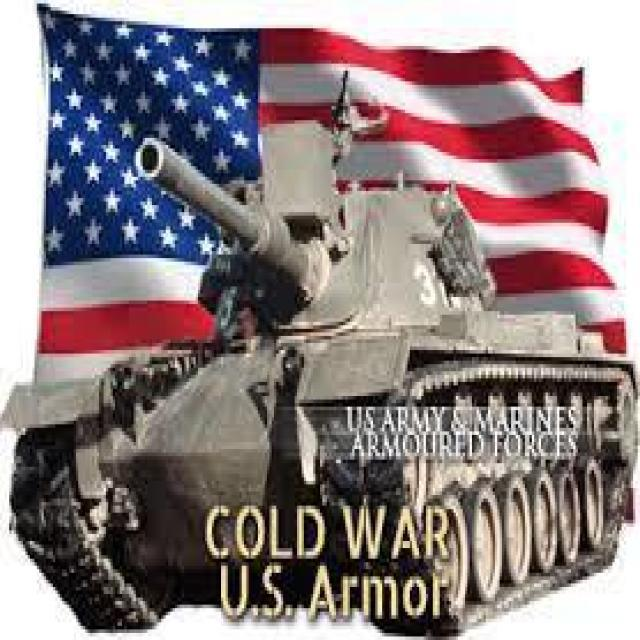MIL_MBT: (43, 55, 623, 628)
